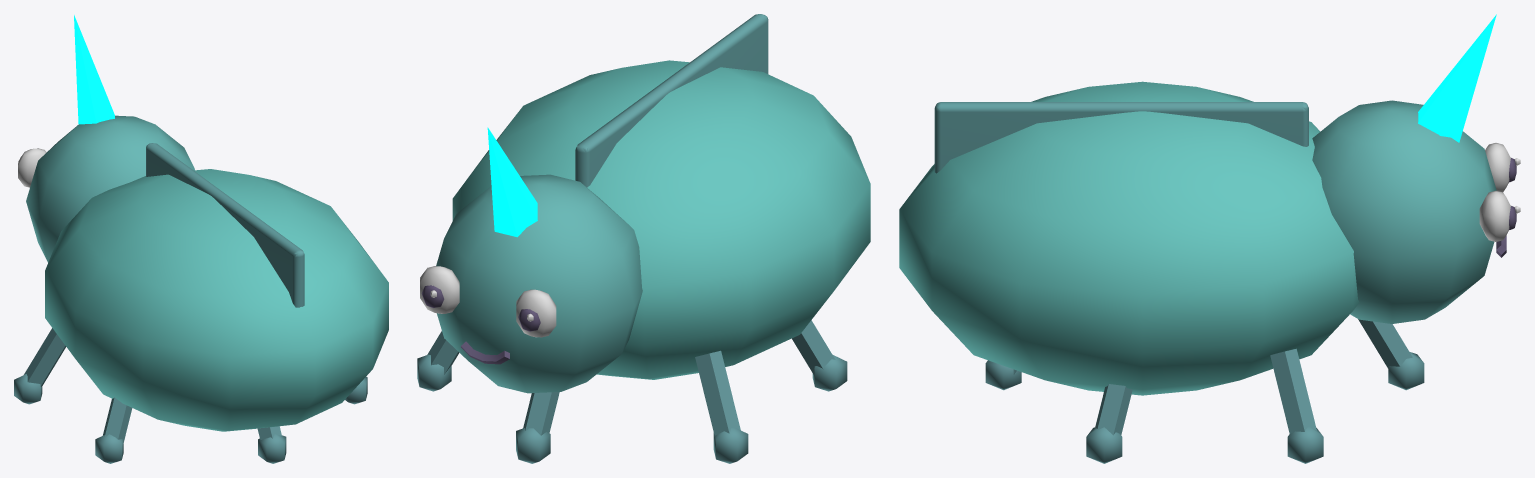
Rendered from art_r_beetle.glb.
The picture shows the model from 3 angles, left to right: view 1: azimuth 30°, elevation 25°; view 2: azimuth 150°, elevation 25°; view 3: azimuth 270°, elevation 25°; orthographic projection. The views are drawn at different scales.
Parts seen in each view (by area): view 1: Body, Head, Limb, Glow_00E5FF, Eye; view 2: Body, Head, Limb, Eye, Glow_00E5FF, Mouth; view 3: Body, Head, Limb, Glow_00E5FF, Eye.
Part boxes in pixels (<box>): Body: <box>45,143,388,431</box>; Head: <box>26,115,194,262</box>; Limb: <box>14,328,367,463</box>; Glow_00E5FF: <box>74,15,114,124</box>; Eye: <box>18,148,46,187</box>; Body: <box>452,14,870,379</box>; Head: <box>436,174,642,393</box>; Limb: <box>417,320,847,463</box>; Eye: <box>420,266,556,337</box>; Glow_00E5FF: <box>487,127,537,237</box>; Mouth: <box>461,341,509,364</box>; Body: <box>899,81,1359,395</box>; Head: <box>1312,100,1496,323</box>; Limb: <box>985,319,1424,463</box>; Glow_00E5FF: <box>1418,14,1496,142</box>; Eye: <box>1479,143,1520,241</box>.
Size of the model in its own units: 1.95 by 2 by 2.99.
